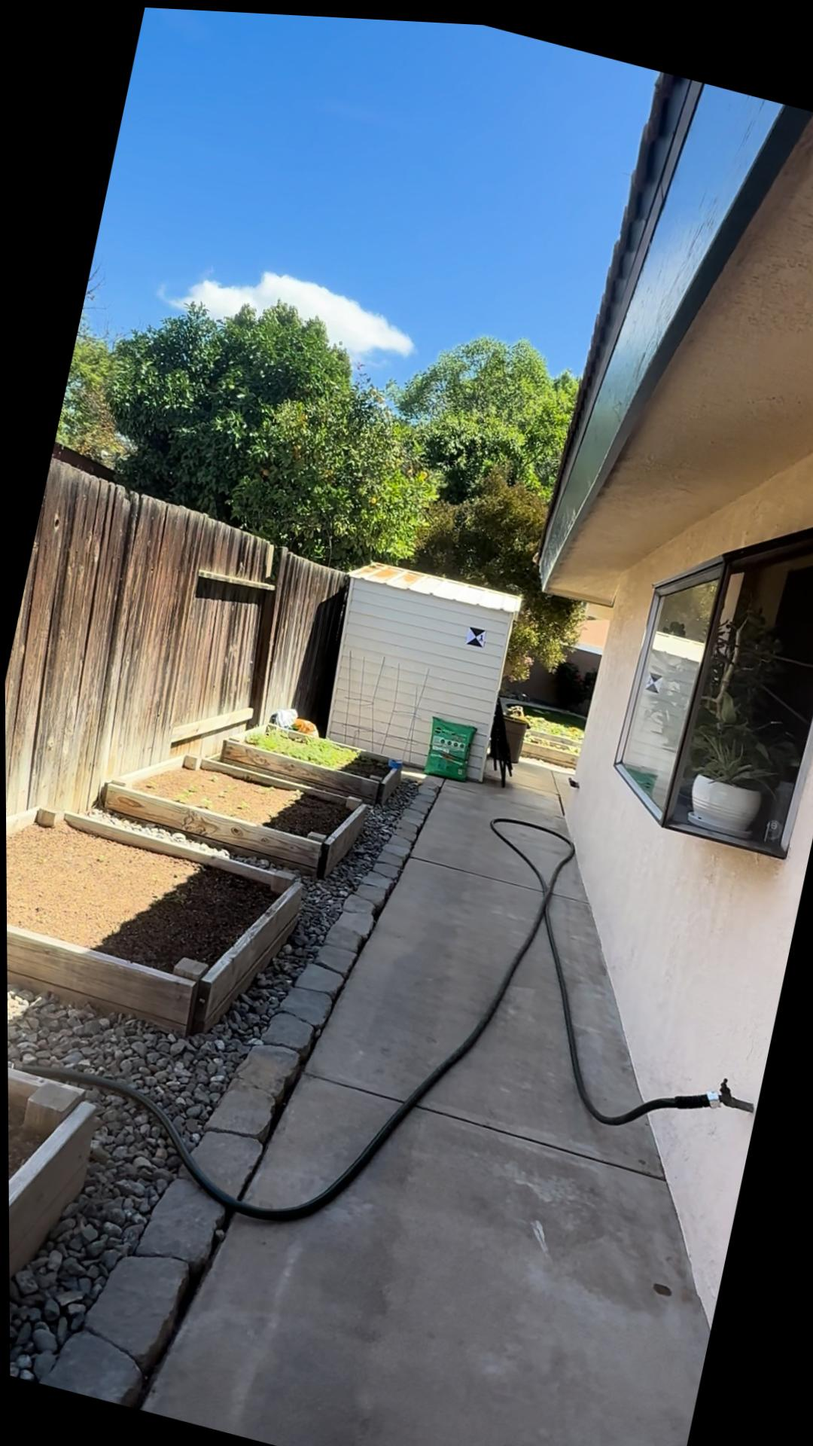target1: (464, 624, 489, 651)
